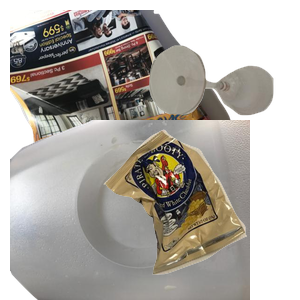glass: (147, 43, 300, 151)
paper: (10, 10, 241, 188)
plastic: (10, 120, 250, 300)
trash: (101, 127, 300, 300)
